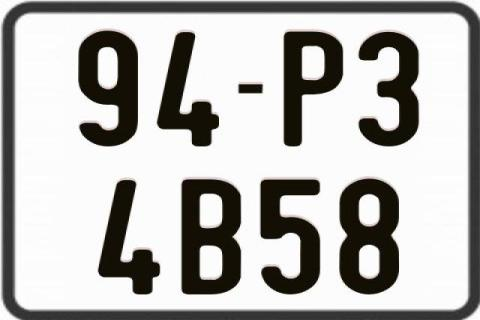0: (155, 30, 222, 148), (336, 178, 401, 298), (78, 28, 144, 146), (96, 180, 162, 298), (257, 177, 321, 296), (358, 31, 419, 149)
B: (181, 178, 240, 298)
P: (282, 29, 342, 147)
